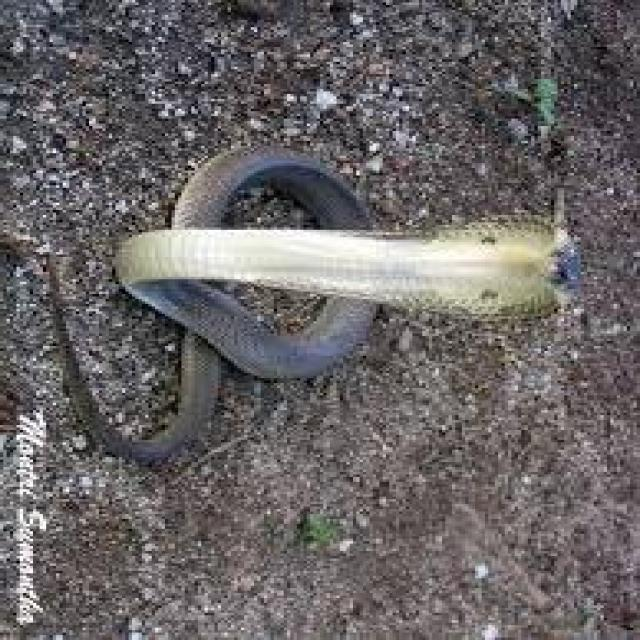Venomous: (386, 206, 596, 335)
